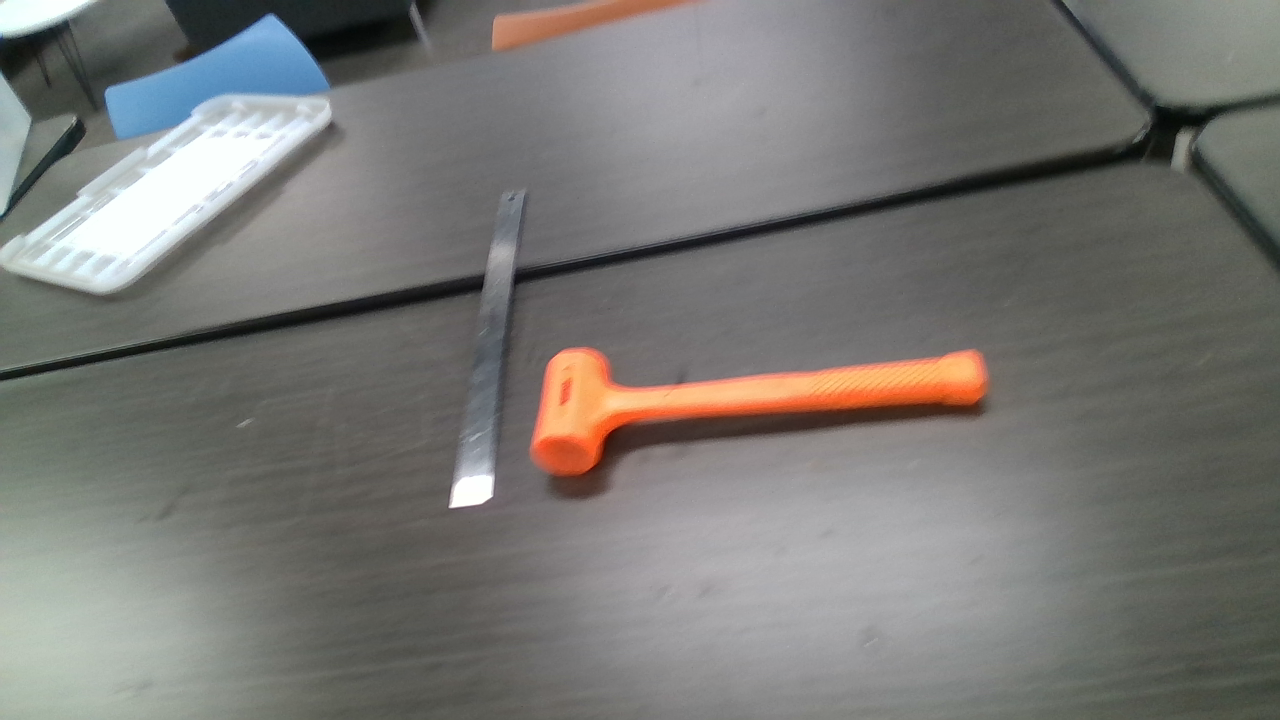Orange Hammer: (536, 345, 987, 476)
